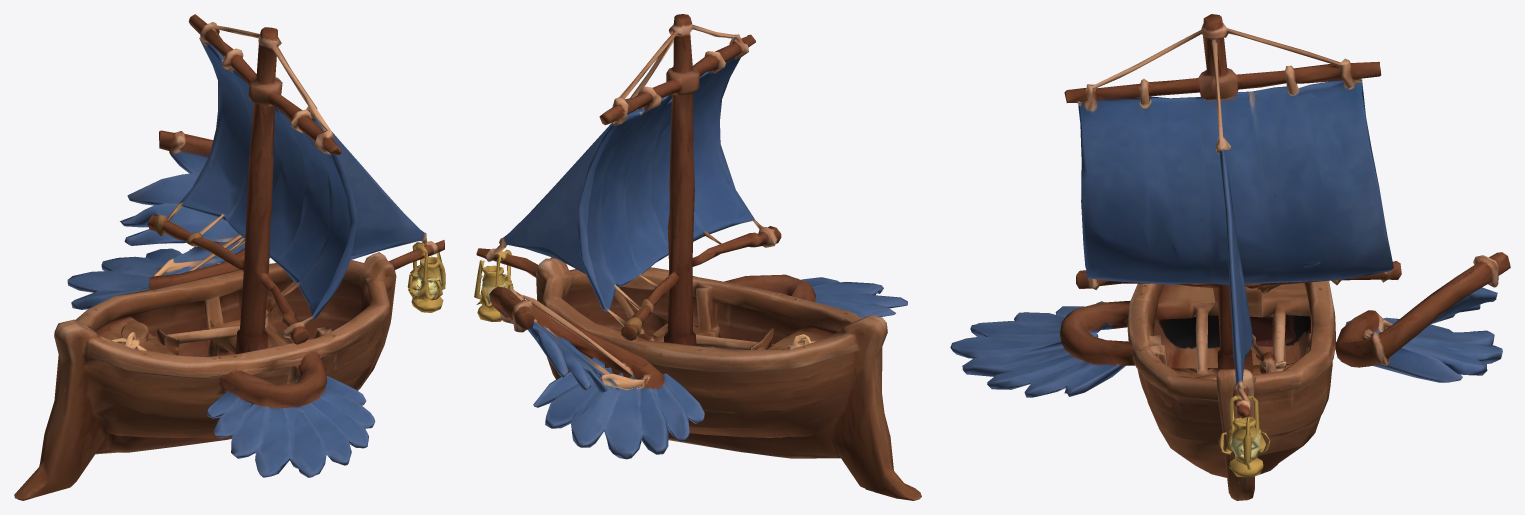
Rendered from skiff.glb.
3 renders of one model, left to right at view 1: azimuth 30°, elevation 25°; view 2: azimuth 150°, elevation 25°; view 3: azimuth 270°, elevation 25°, orthographic. The views are drawn at different scales.
Bounding box in the file's own units: 2.36 × 2.15 × 2.4.
1 material, 1 textured.
